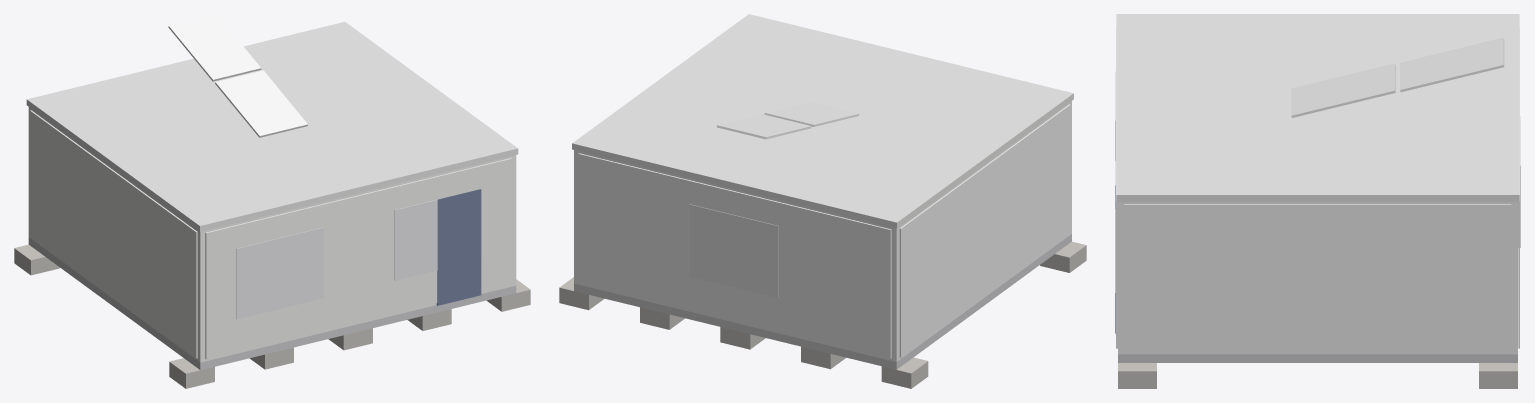
File: Studio-20-Premium+FullSolar-LOD2.glb
The picture shows the model from 3 angles, left to right: view 1: azimuth 30°, elevation 25°; view 2: azimuth 150°, elevation 25°; view 3: azimuth 270°, elevation 25°; orthographic projection. The views are drawn at different scales.
Parts seen in each view (by area): view 1: RoofMain, ExteriorPanelsPremium, WindowsLargeUpgrade, SolarPanelArray, EntryDoor, FoundationBlocks, ExteriorShell, BaseFrame; view 2: ExteriorPanelsPremium, RoofMain, WindowsLargeUpgrade, FoundationBlocks, ExteriorShell, BaseFrame, SolarPanelArray; view 3: RoofMain, ExteriorPanelsPremium, SolarPanelArray, ExteriorShell, BaseFrame, FoundationBlocks, WindowsLargeUpgrade.
Part boxes in pixels (left/top/right/bottom): RoofMain: left=26, top=22, right=518, bottom=231; ExteriorPanelsPremium: left=30, top=110, right=512, bottom=359; WindowsLargeUpgrade: left=236, top=189, right=481, bottom=319; SolarPanelArray: left=168, top=14, right=307, bottom=137; EntryDoor: left=436, top=189, right=481, bottom=305; FoundationBlocks: left=14, top=244, right=530, bottom=388; ExteriorShell: left=28, top=107, right=516, bottom=362; BaseFrame: left=28, top=237, right=516, bottom=370; ExteriorPanelsPremium: left=578, top=104, right=1070, bottom=358; RoofMain: left=572, top=14, right=1073, bottom=228; WindowsLargeUpgrade: left=689, top=204, right=778, bottom=298; FoundationBlocks: left=559, top=241, right=1086, bottom=388; ExteriorShell: left=574, top=101, right=1071, bottom=361; BaseFrame: left=574, top=234, right=1071, bottom=369; SolarPanelArray: left=717, top=102, right=859, bottom=139; RoofMain: left=1116, top=14, right=1519, bottom=201; ExteriorPanelsPremium: left=1116, top=27, right=1519, bottom=352; SolarPanelArray: left=1291, top=37, right=1504, bottom=117; ExteriorShell: left=1118, top=202, right=1517, bottom=354; BaseFrame: left=1118, top=354, right=1517, bottom=362; FoundationBlocks: left=1118, top=363, right=1517, bottom=388; WindowsLargeUpgrade: left=1115, top=71, right=1520, bottom=292.
Bounding box in the file's own units: 7.14 × 4.07 × 6.24.
